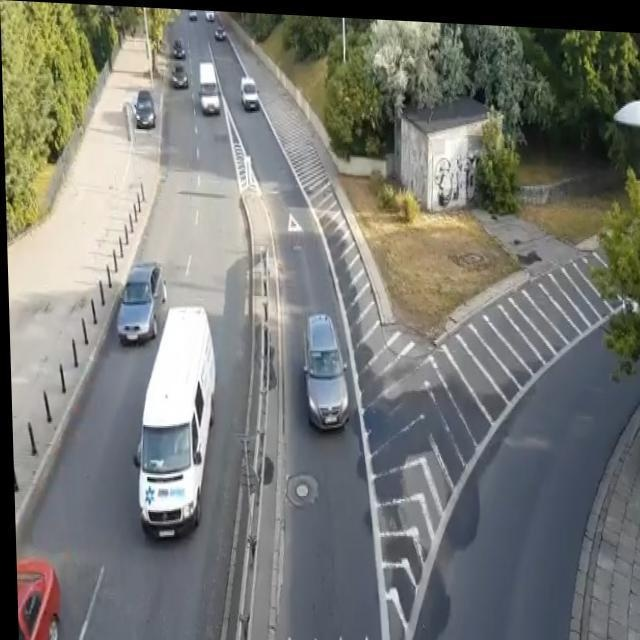Car: (123, 292, 224, 548), (298, 301, 351, 441), (111, 246, 172, 350), (13, 549, 62, 640), (195, 59, 228, 120), (132, 88, 160, 134), (238, 74, 264, 120), (167, 64, 191, 91), (208, 22, 232, 46), (168, 37, 192, 59)
